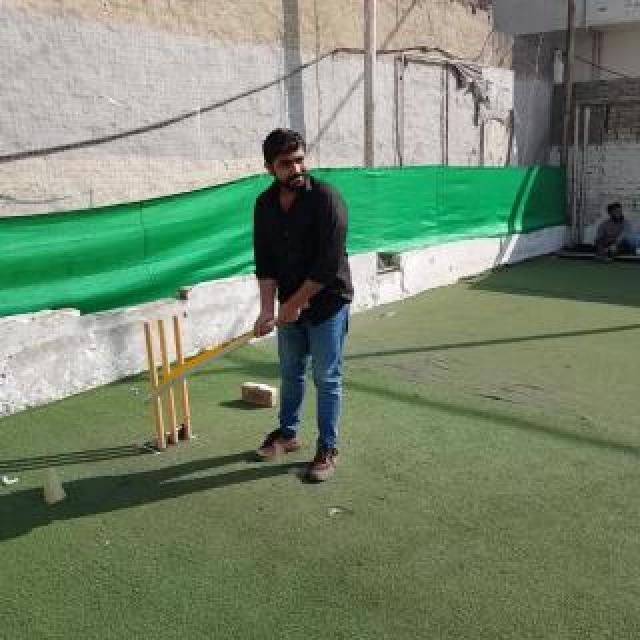bat: (144, 301, 310, 405)
